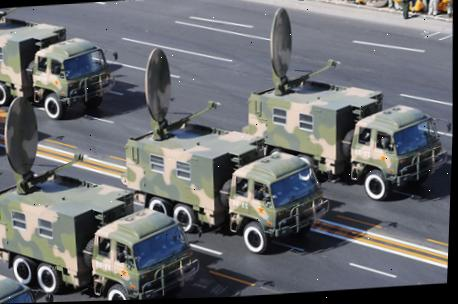truck: (118, 102, 344, 264), (0, 159, 208, 304), (239, 70, 455, 209), (0, 4, 121, 129)
